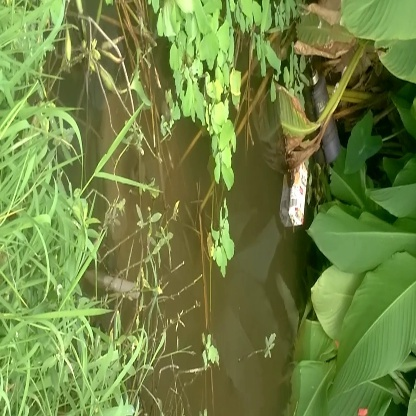milk-box: (275, 146, 312, 232)
